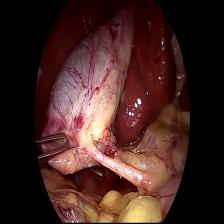Grasper: (35, 127, 72, 171)
